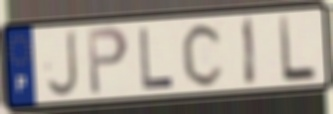C: (180, 20, 226, 89)
I: (241, 15, 258, 89)
J: (45, 28, 81, 100)
L: (276, 13, 319, 85), (137, 26, 176, 92)
P: (85, 24, 131, 99)
